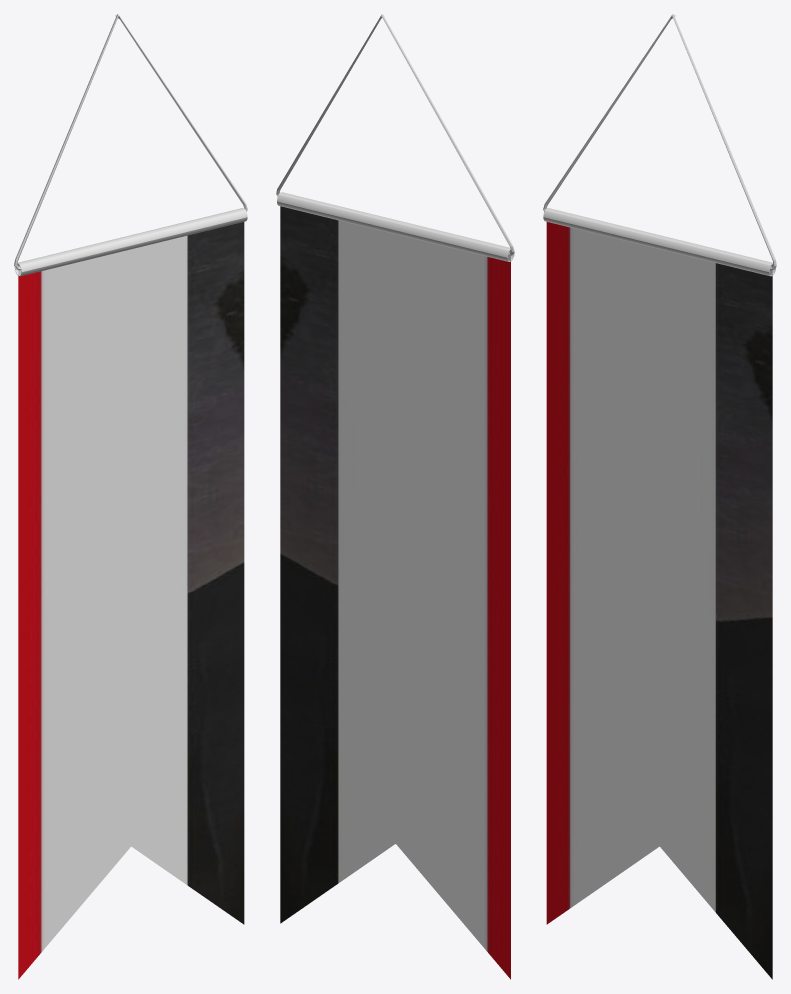
File: BAYRAK_TÜRKBAYRAĞI.fbx
The picture shows the model from 3 angles, left to right: view 1: azimuth 30°, elevation 25°; view 2: azimuth 150°, elevation 25°; view 3: azimuth 330°, elevation 25°; orthographic projection. The views are drawn at different scales.
Visible parts, largest first — view 1: Plane.004, Plane.011, Plane.006; view 2: Plane.004, Plane.011, Plane.006; view 3: Plane.004, Plane.011, Plane.006.
Part boxes in pixels (x1,y1,x2,y2): Plane.004: (18,222,244,979); Plane.011: (14,208,247,276); Plane.006: (14,14,247,270); Plane.004: (280,206,510,979); Plane.011: (277,192,514,261); Plane.006: (276,14,514,255); Plane.004: (546,222,772,979); Plane.011: (543,208,776,276); Plane.006: (543,14,776,270).
Size of the model in its own units: 128 by 488 by 18.17.
